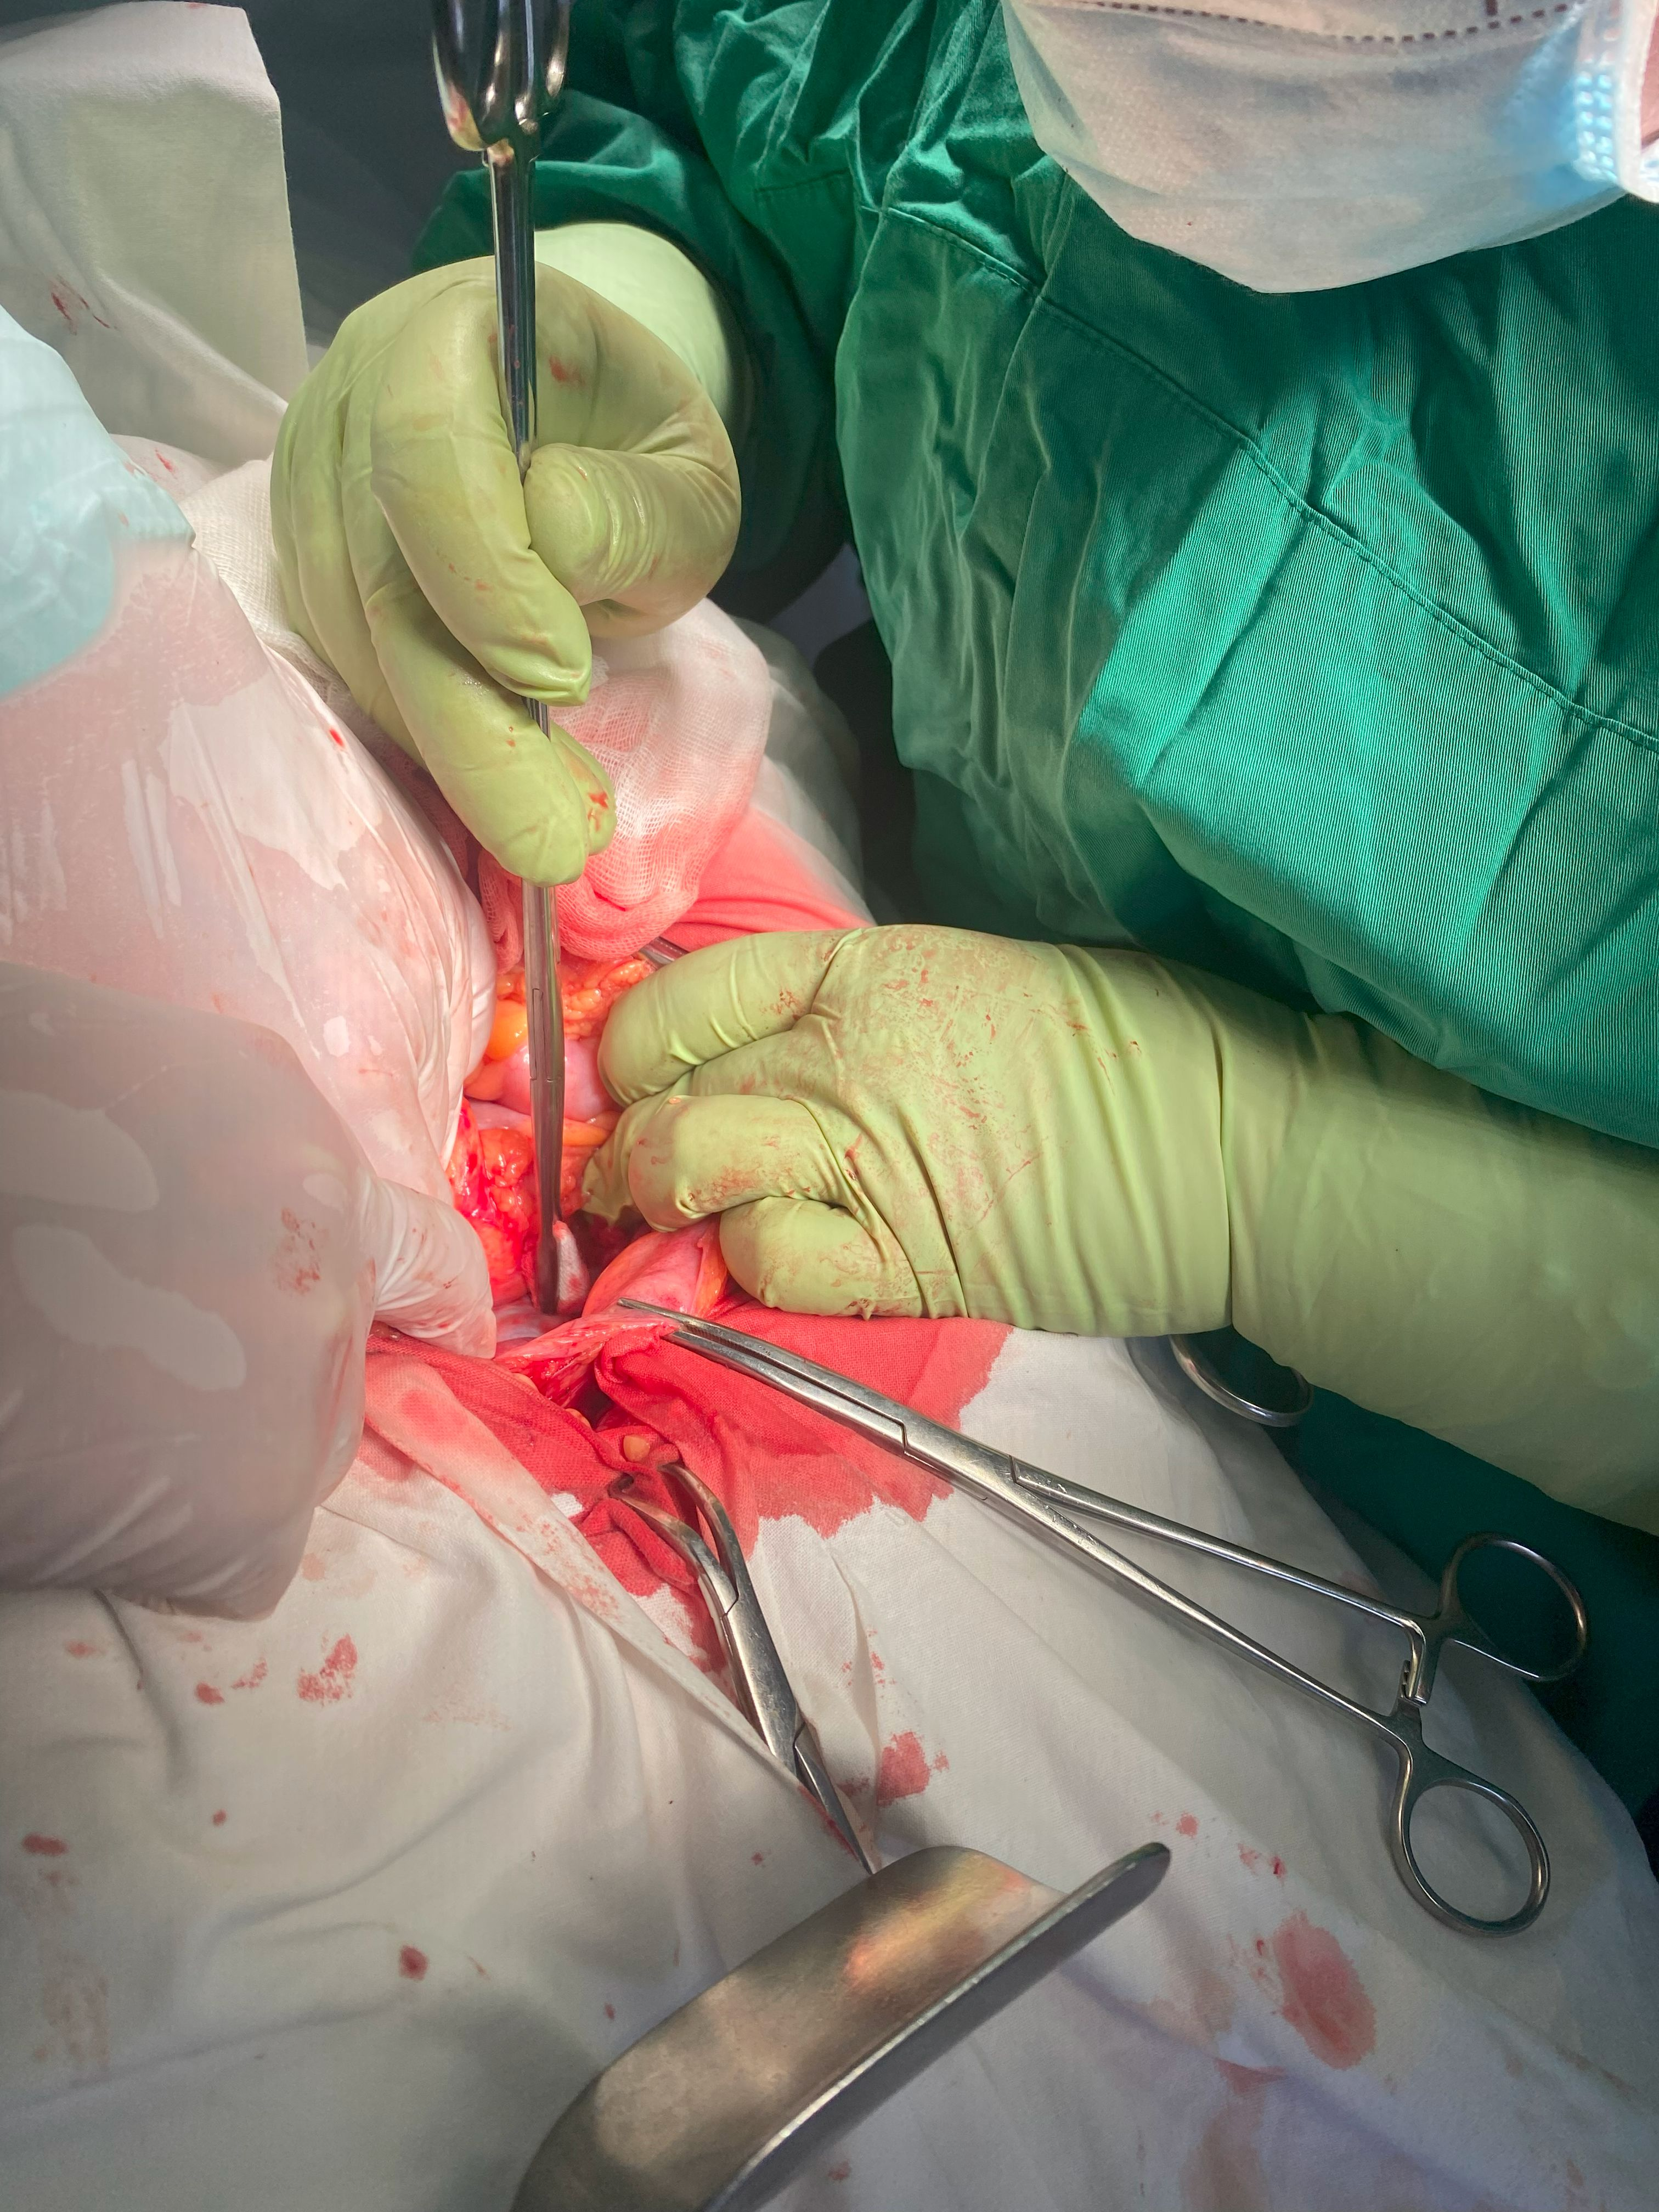clamp: (615, 1296, 1588, 1937), (606, 1460, 878, 1872), (434, 0, 570, 481)
